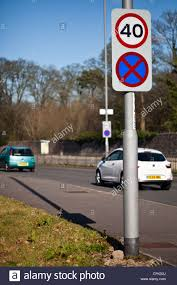Speed_limit_40km: (114, 13, 149, 48)
